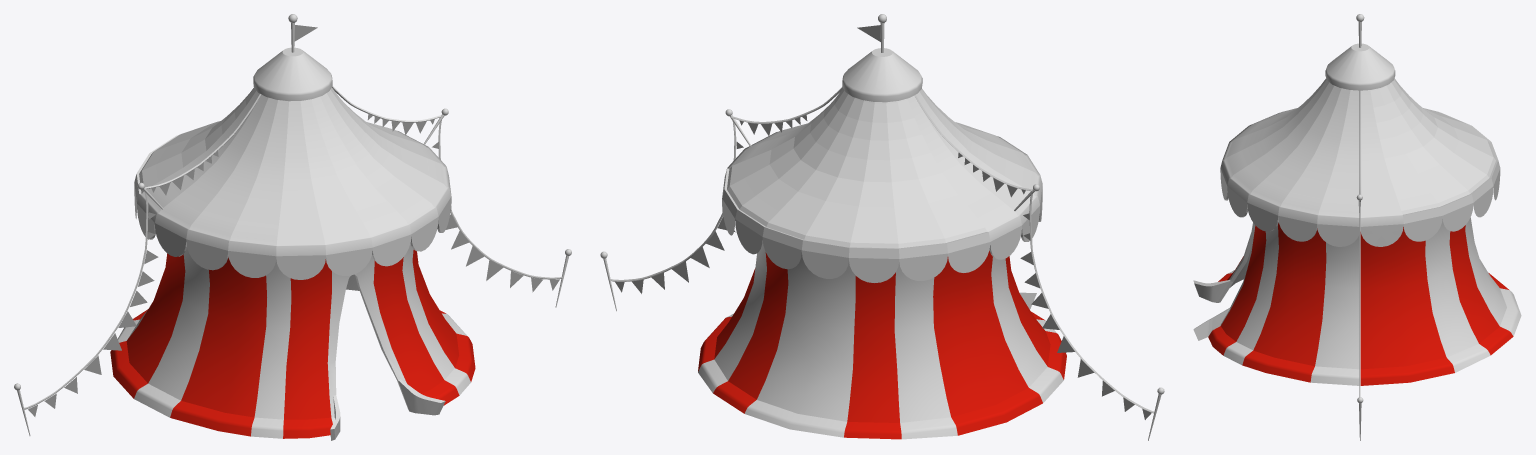
Rendered from mid01tent_lowpoly.fbx.
The picture shows the model from 3 angles, left to right: view 1: azimuth 30°, elevation 25°; view 2: azimuth 150°, elevation 25°; view 3: azimuth 270°, elevation 25°; orthographic projection. The views are drawn at different scales.
Parts seen in each view (by area): view 1: mid01_tent_bottom1, mid01_tent_top1, polySurface421, sweep22; view 2: mid01_tent_bottom1, mid01_tent_top1, polySurface421, sweep22; view 3: mid01_tent_bottom1, mid01_tent_top1, polySurface421, sweep14.
Boxes of the visible parts, x1,y1,x2,y2 form: mid01_tent_bottom1: (110, 243, 475, 440); mid01_tent_top1: (134, 87, 451, 279); polySurface421: (253, 47, 332, 101); sweep22: (24, 192, 148, 409); mid01_tent_bottom1: (698, 240, 1066, 439); mid01_tent_top1: (722, 88, 1042, 282); polySurface421: (842, 48, 922, 102); sweep22: (1029, 194, 1154, 413); mid01_tent_bottom1: (1193, 217, 1521, 385); mid01_tent_top1: (1220, 78, 1500, 246); polySurface421: (1325, 43, 1395, 90); sweep14: (1359, 202, 1360, 397).
Bounding box in the file's own units: 31.15 × 19.11 × 18.11.
